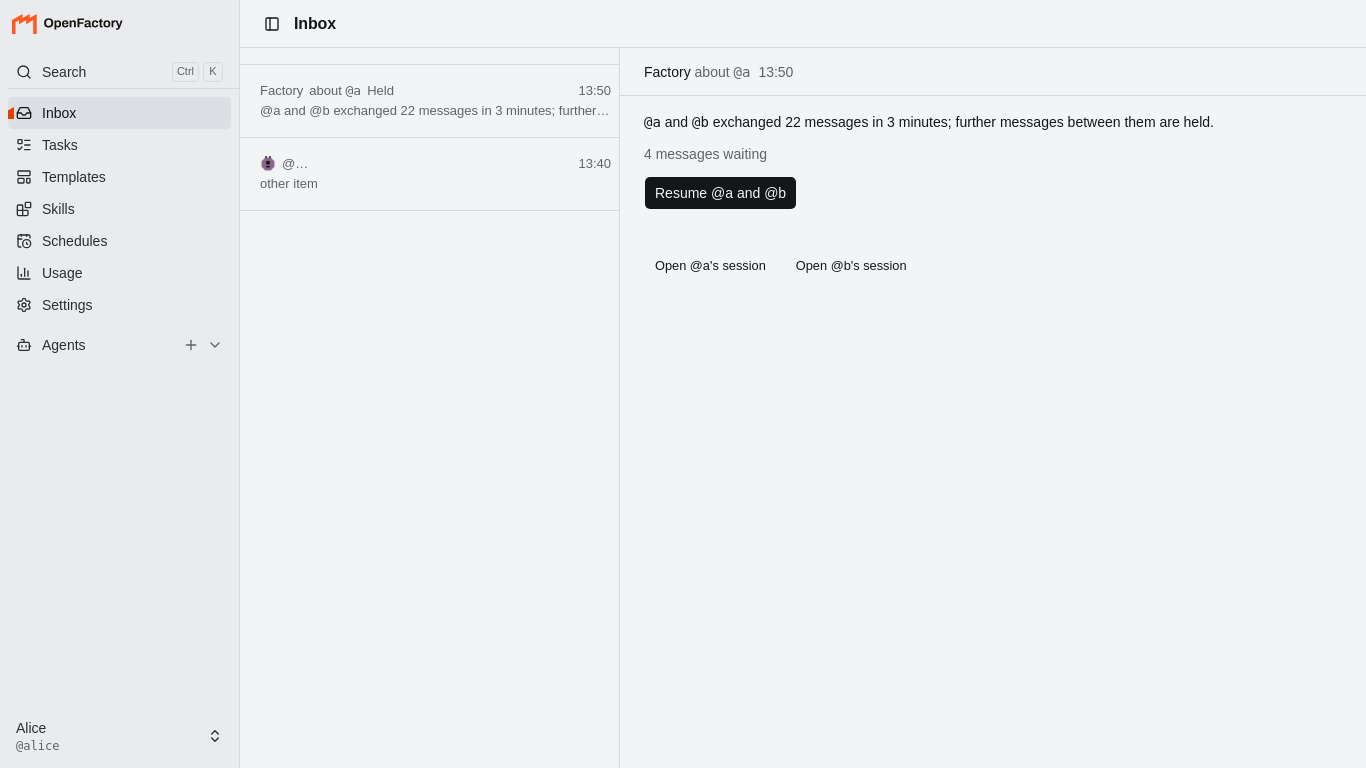
Scenario: navigating away mid-Resume and back shows the button until inbox_changed brings resumedAt
Later steps or results of the test are not shown.
Expected: the text "exchanged 22 messages" is shown, left=709, top=114, right=1214, bottom=130
Click the button "Resume @a and @b": (721, 193) left=644, top=176, right=797, bottom=210
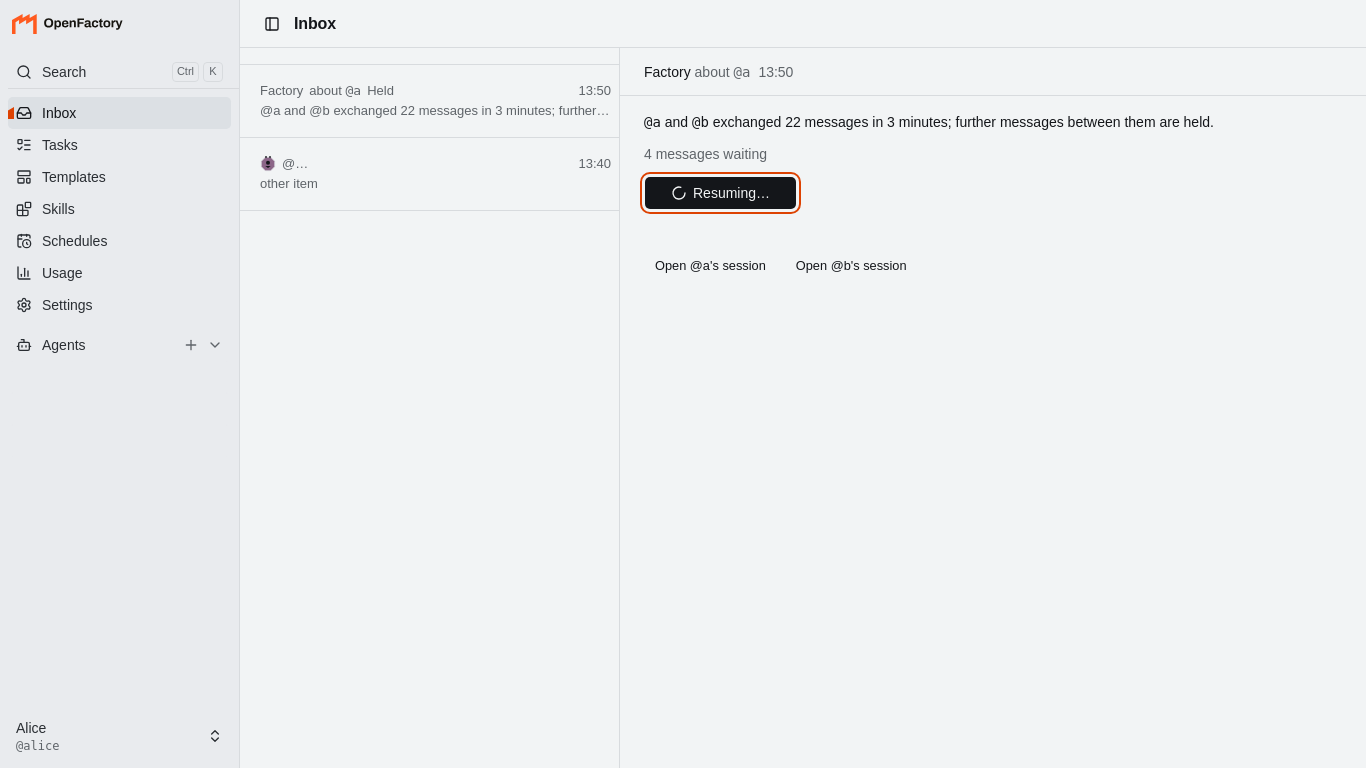
Click the link with aria-label "From @dev": (595, 164) left=260, top=156, right=611, bottom=191
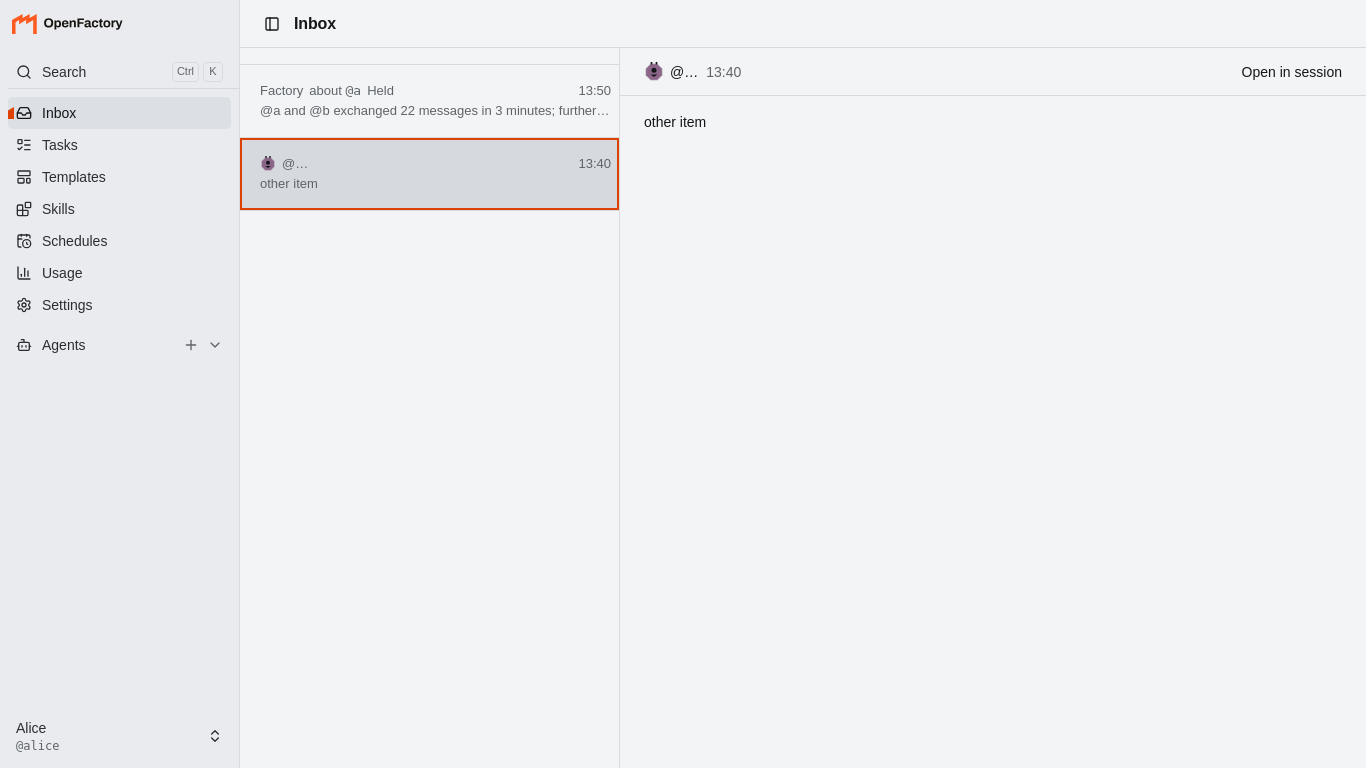
Now the text "other item" below "Open in session" is shown, box left=644, top=114, right=706, bottom=130
Click the link with aria-label "From Factory about @a": (529, 100) left=260, top=83, right=799, bottom=118
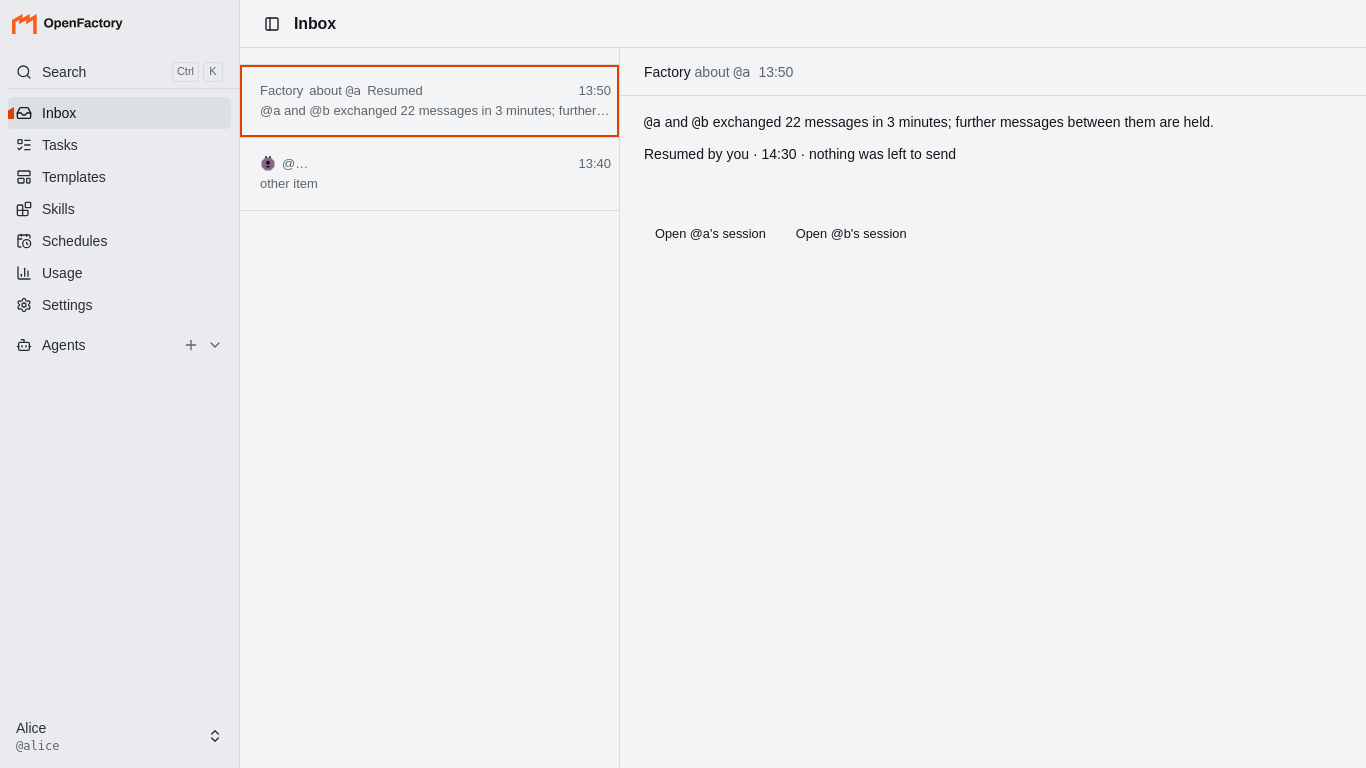
Now the message shows "Resumed by you · 14:30", box left=644, top=144, right=956, bottom=164
